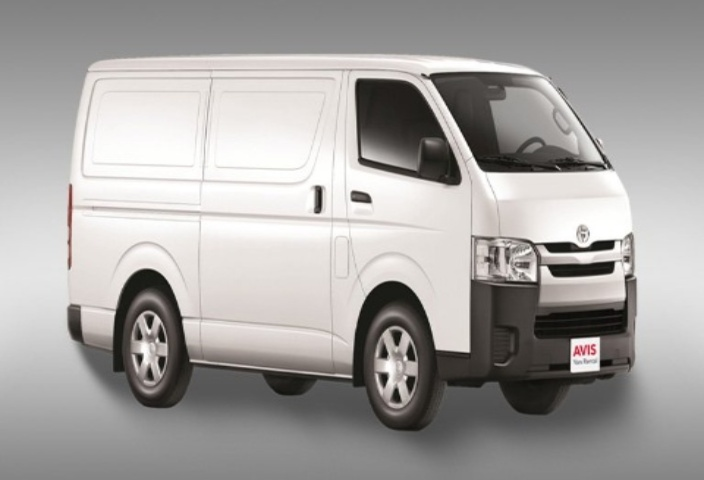van: (65, 31, 639, 437)
